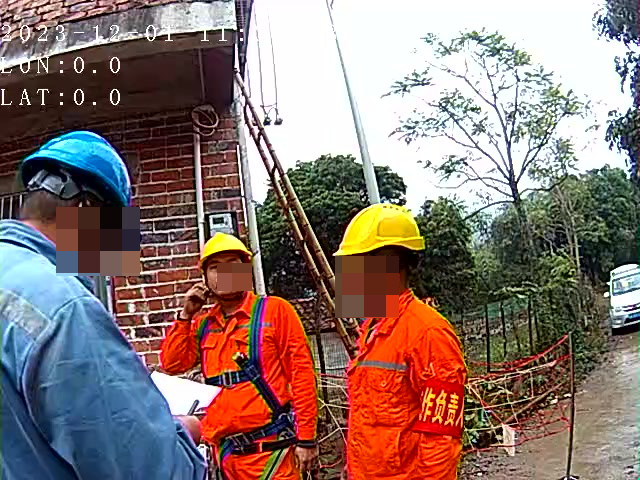badge: (413, 382, 465, 434)
halt: (17, 134, 142, 264), (333, 203, 427, 302), (199, 234, 253, 295)
hand: (183, 282, 206, 312), (292, 445, 320, 469)
inear: (371, 252, 401, 287)
outear: (71, 193, 103, 252)
person: (1, 127, 207, 480), (163, 230, 321, 480), (338, 202, 468, 480)
safebelt: (186, 301, 294, 444)
upsuit: (1, 223, 153, 480)
yupsuit: (344, 292, 470, 480), (159, 297, 325, 434)
